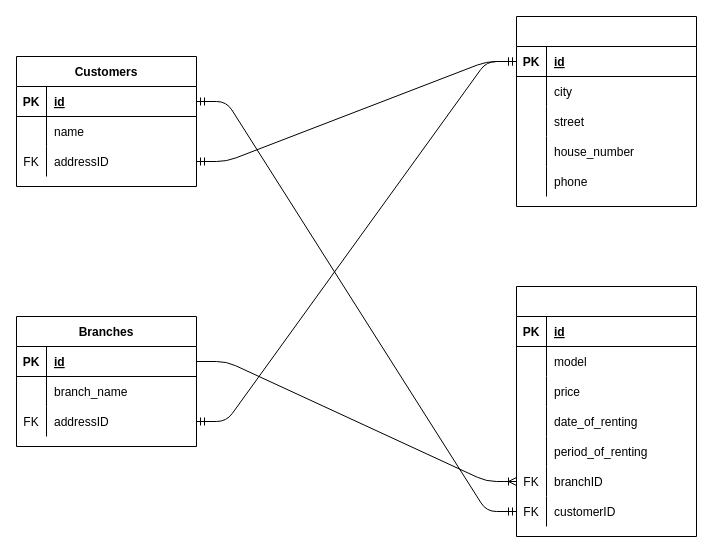
This 713x553 diagram has some shape labels left out. The box of each missing label's shape, as (x1, y1, x2, y2) in pixels:
Addresses: (516, 16, 696, 206)
Cars: (516, 286, 696, 536)
